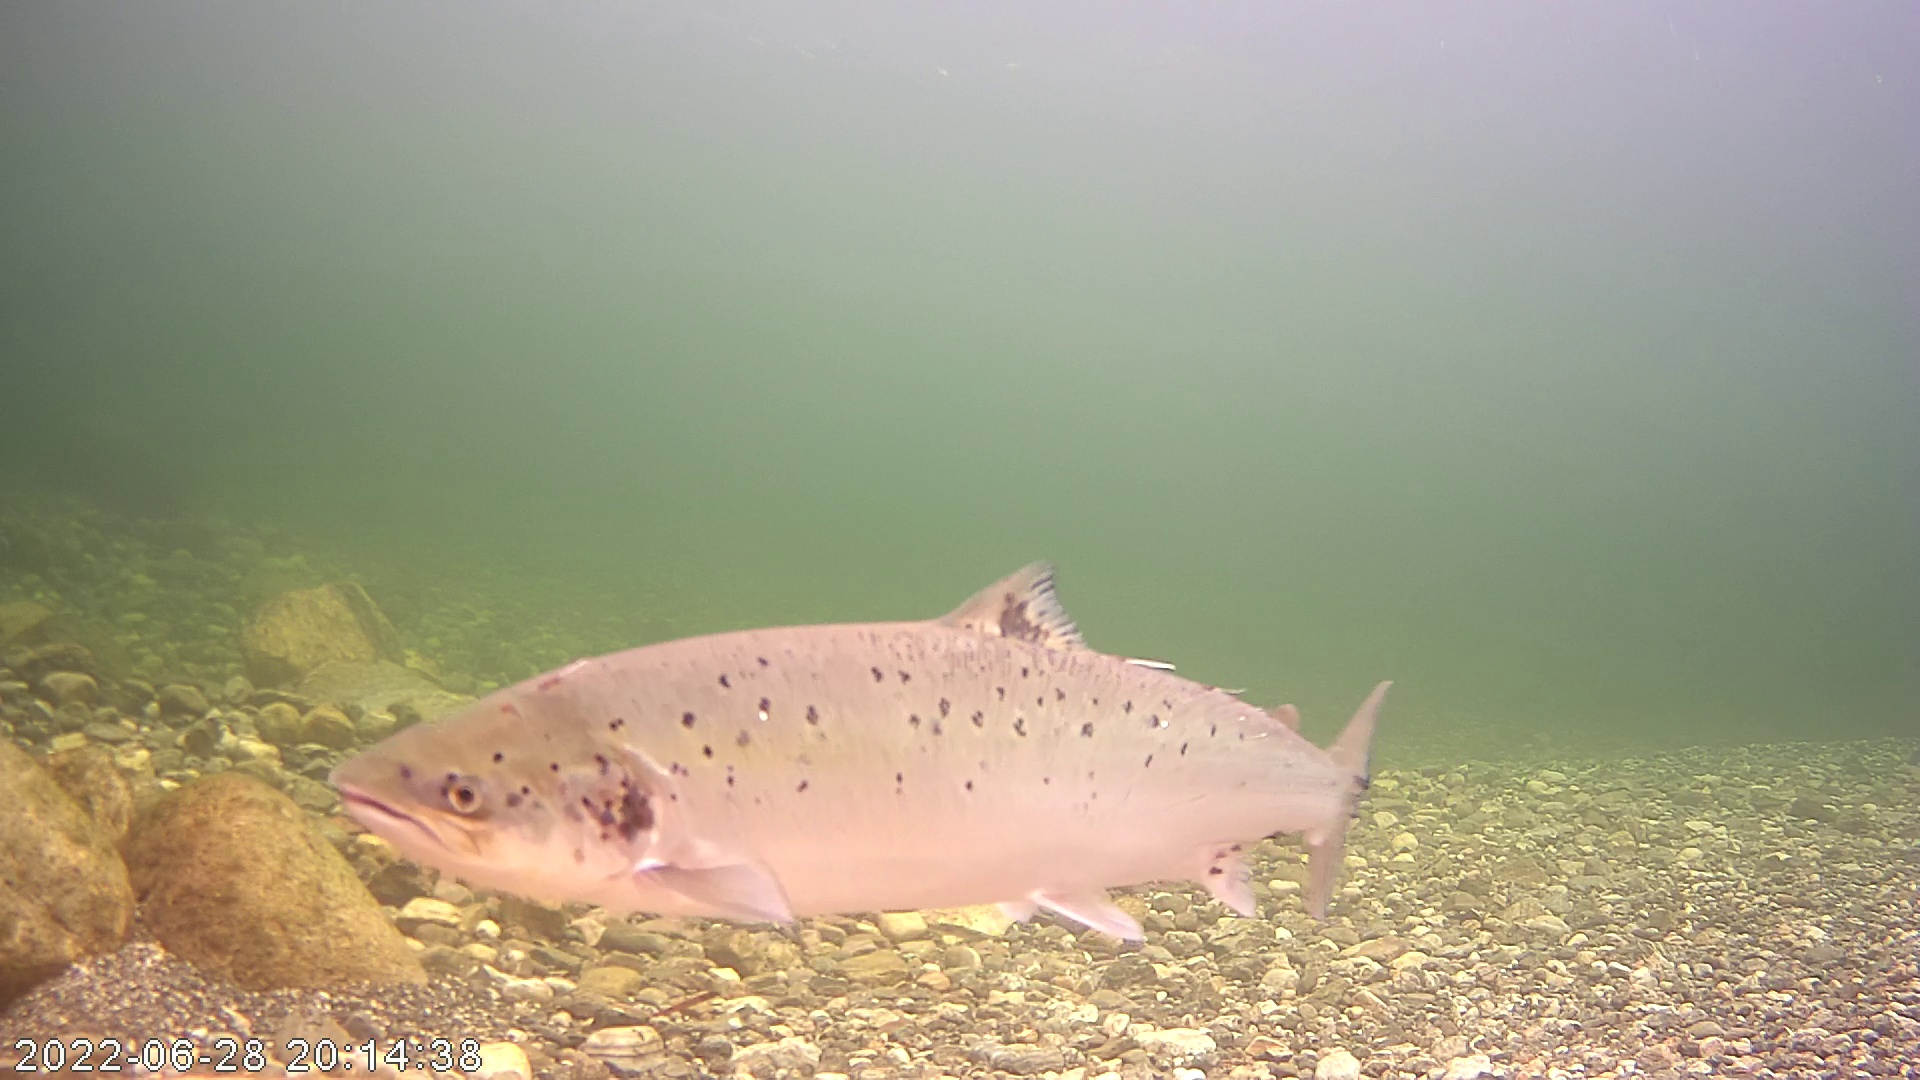salmon: (309, 509, 1383, 923)
